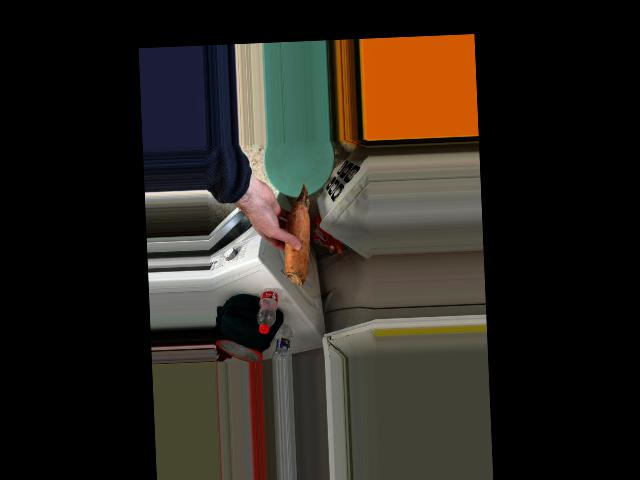sweet_potato: (274, 183, 319, 290)
